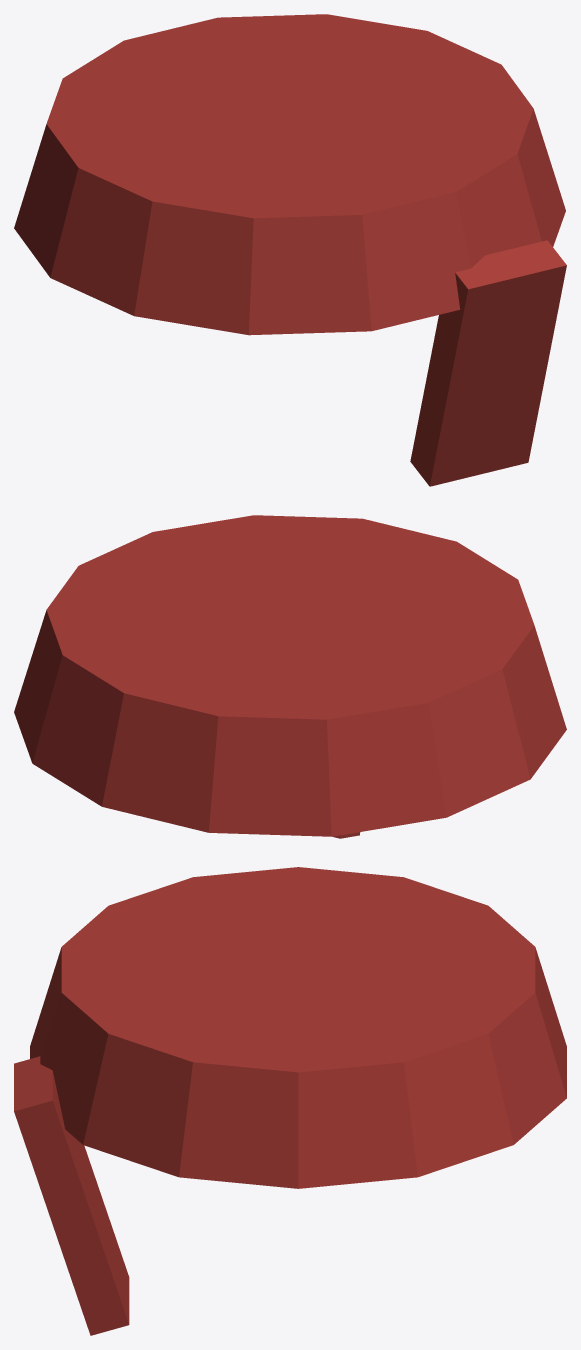
Rendered from acc_scarf.glb.
The picture shows the model from 3 angles, top to bottom: view 1: azimuth 30°, elevation 25°; view 2: azimuth 150°, elevation 25°; view 3: azimuth 270°, elevation 25°; orthographic projection.
Parts seen in each view (by area): view 1: acc_scarf; view 2: acc_scarf; view 3: acc_scarf.
Boxes of the visible parts, x1,y1,x2,y2 form: acc_scarf: [14, 14, 566, 486]; acc_scarf: [14, 515, 566, 838]; acc_scarf: [14, 867, 566, 1335].
Size of the model in its own units: 0.68 by 0.4102 by 0.6826.
